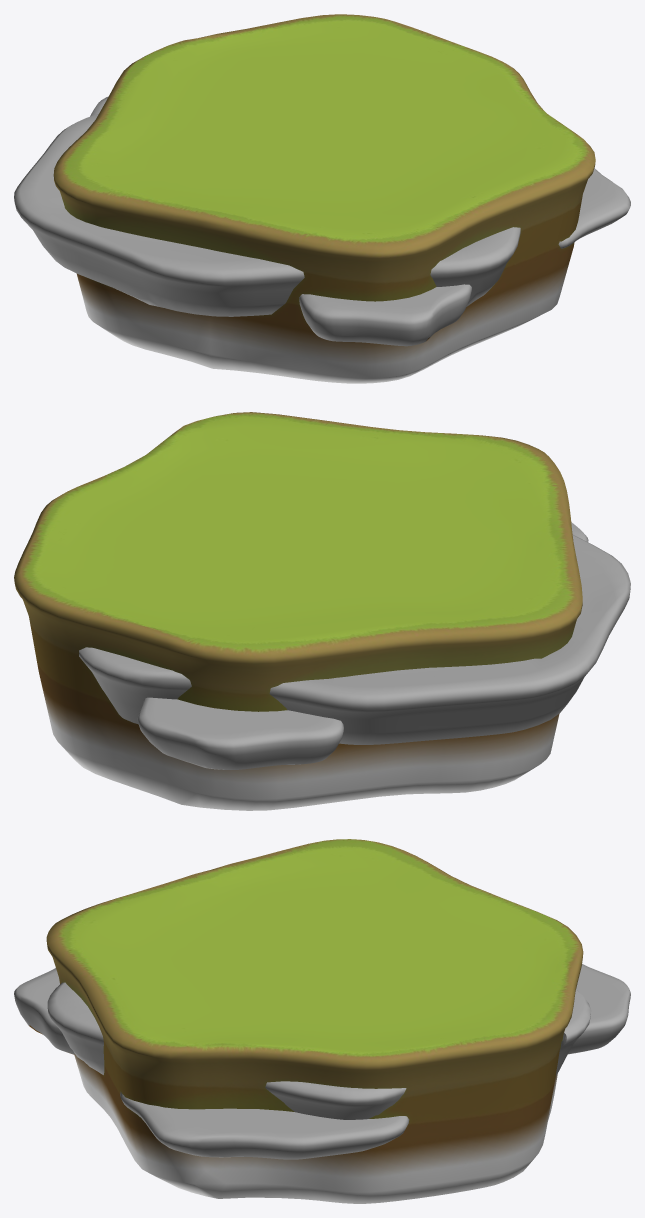
The model's file is Terrain.fbx.
3 renders of one model, top to bottom at view 1: azimuth 30°, elevation 25°; view 2: azimuth 150°, elevation 25°; view 3: azimuth 270°, elevation 25°, orthographic. The views are drawn at different scales.
Visible parts, largest first — view 1: Terrain_GEO; view 2: Terrain_GEO; view 3: Terrain_GEO.
Boxes of the visible parts, box(x1,y1,x2,y2) form: Terrain_GEO: box(14, 14, 630, 383); Terrain_GEO: box(14, 412, 630, 810); Terrain_GEO: box(14, 839, 630, 1203).
Bounding box in the file's own units: 23.12 × 7.04 × 23.95.
2 materials, 1 textured.
